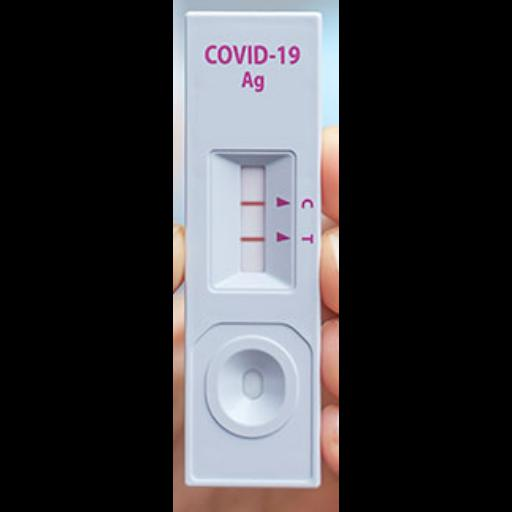Pos: (184, 14, 318, 488)
